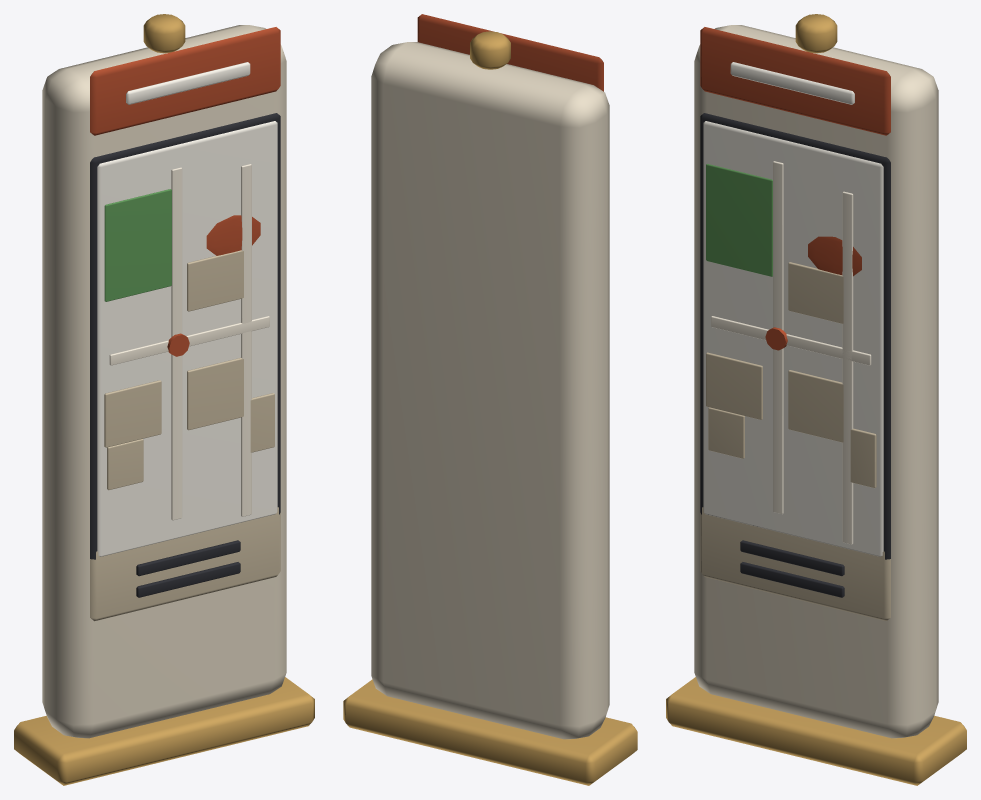
File: city_map_totem.glb
3 renders of one model, left to right at view 1: azimuth 30°, elevation 25°; view 2: azimuth 150°, elevation 25°; view 3: azimuth 330°, elevation 25°, orthographic. The views are drawn at different scales.
Parts seen in each view (by area): view 1: city_map_totem; view 2: city_map_totem; view 3: city_map_totem.
Part boxes in pixels (x1=…): city_map_totem: x1=14, y1=14, x2=314, y2=785; city_map_totem: x1=343, y1=14, x2=637, y2=785; city_map_totem: x1=666, y1=14, x2=966, y2=785.
Size of the model in its own units: 1 by 2.67 by 0.3575.
